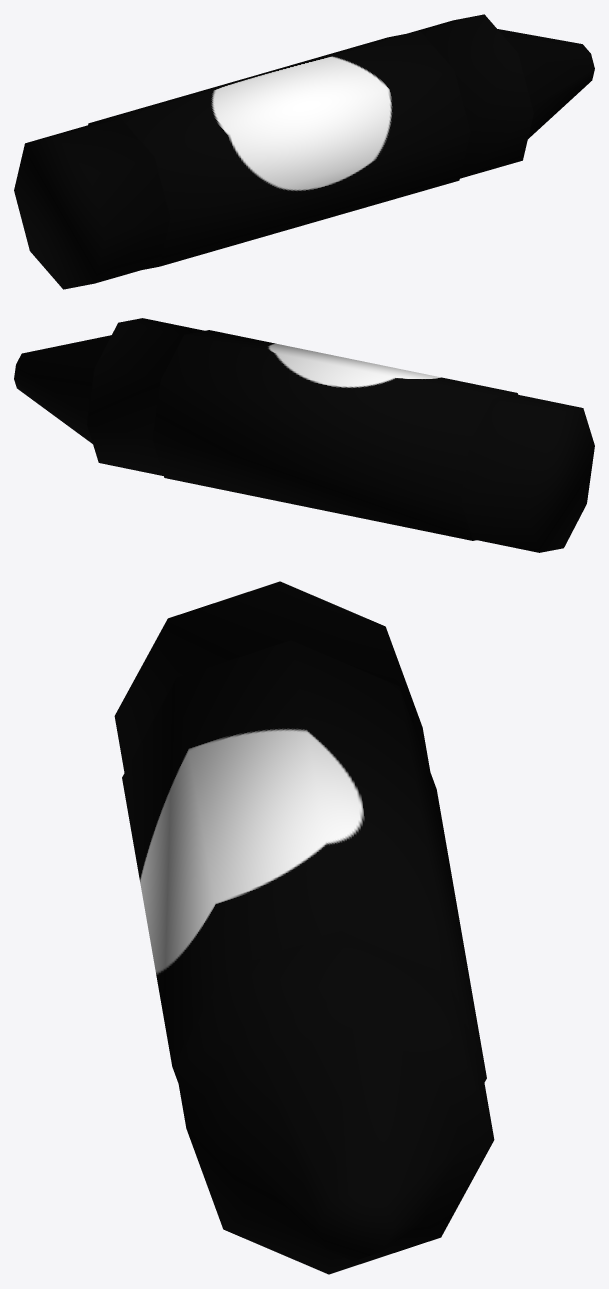
Rendered from BlackCrayonOBJ.fbx.
The picture shows the model from 3 angles, top to bottom: view 1: azimuth 30°, elevation 25°; view 2: azimuth 150°, elevation 25°; view 3: azimuth 270°, elevation 25°; orthographic projection. The views are drawn at different scales.
Parts seen in each view (by area): view 1: HueyDrawing.002; view 2: HueyDrawing.002; view 3: HueyDrawing.002.
Part boxes in pixels (x1,y1,x2,y2): HueyDrawing.002: (14, 14, 594, 289); HueyDrawing.002: (14, 318, 594, 552); HueyDrawing.002: (114, 581, 494, 1274).
Bounding box in the file's own units: 29.5 × 7.7 × 9.27.
